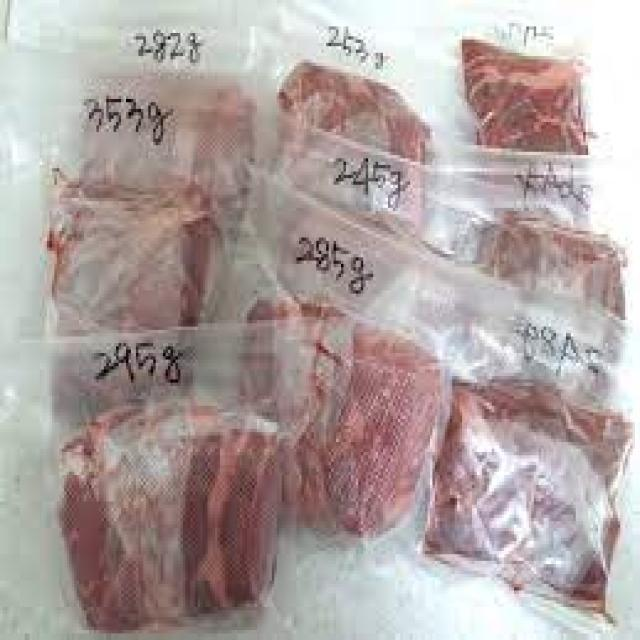pork: (33, 31, 634, 613)
